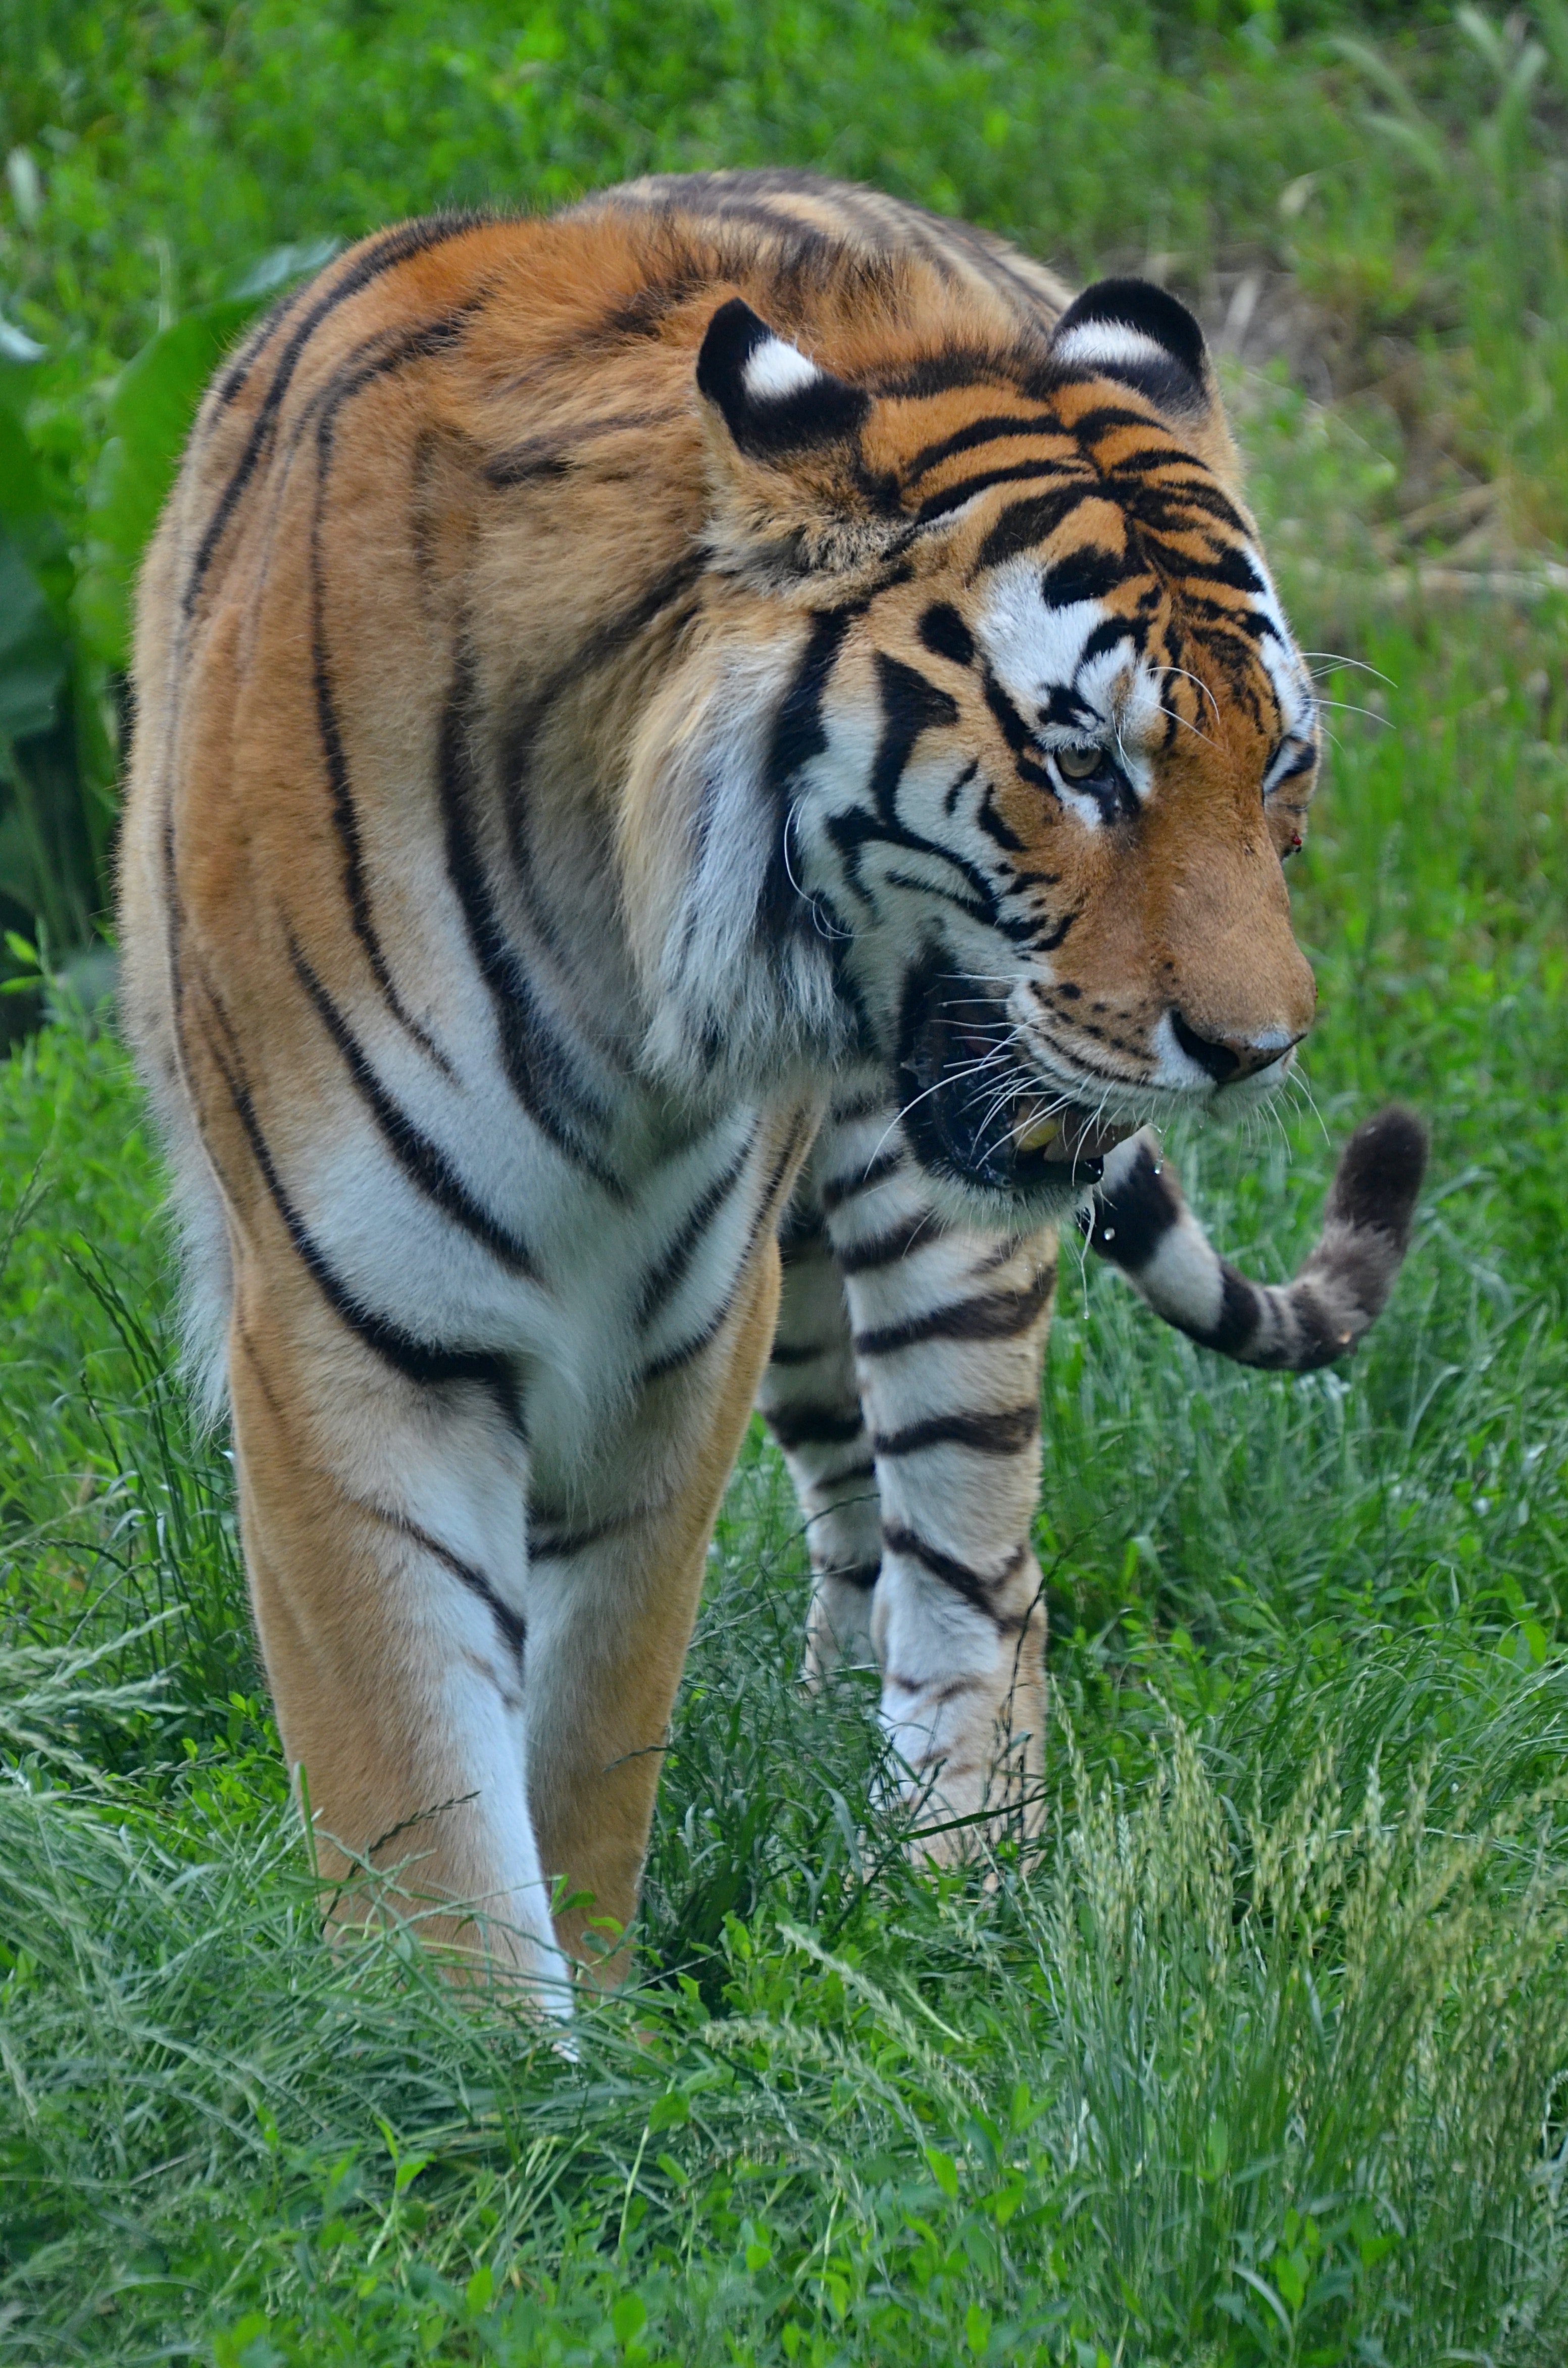tiger: (110, 110, 1405, 2030)
